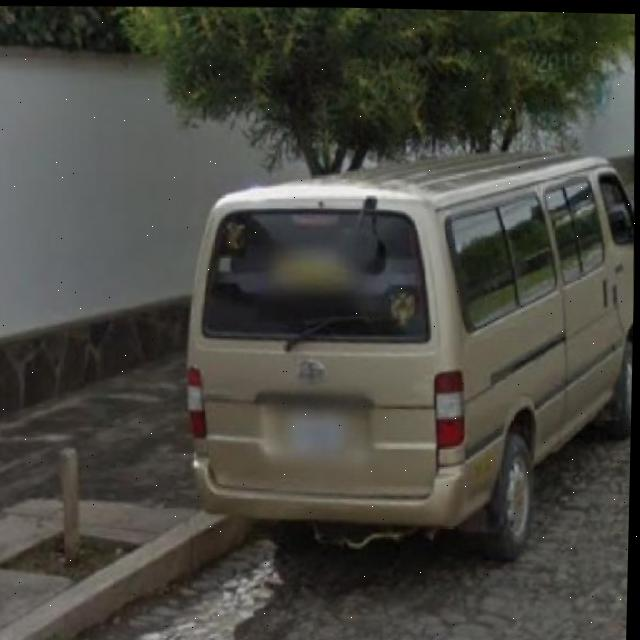vehicle: (193, 134, 636, 556)
